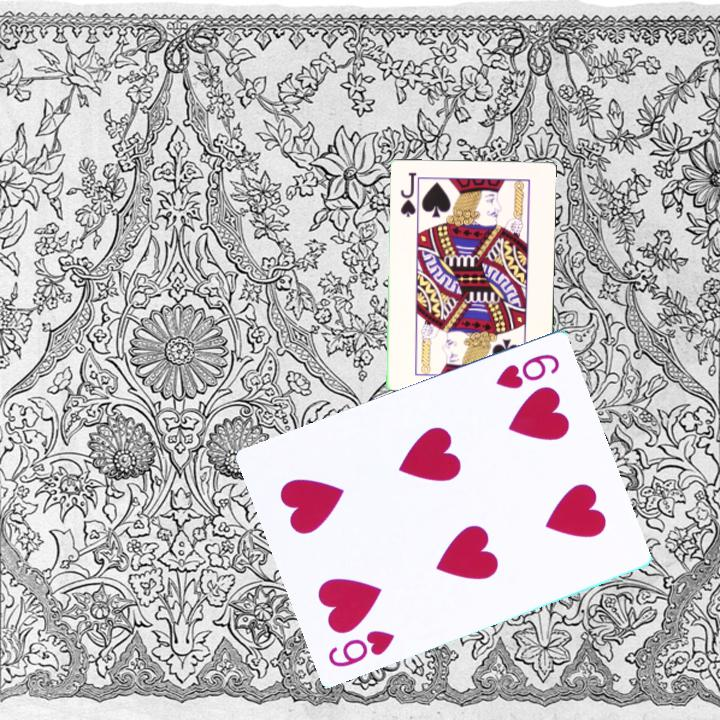6h: (324, 627, 397, 671), (492, 351, 563, 393)
Js: (396, 168, 419, 220)
